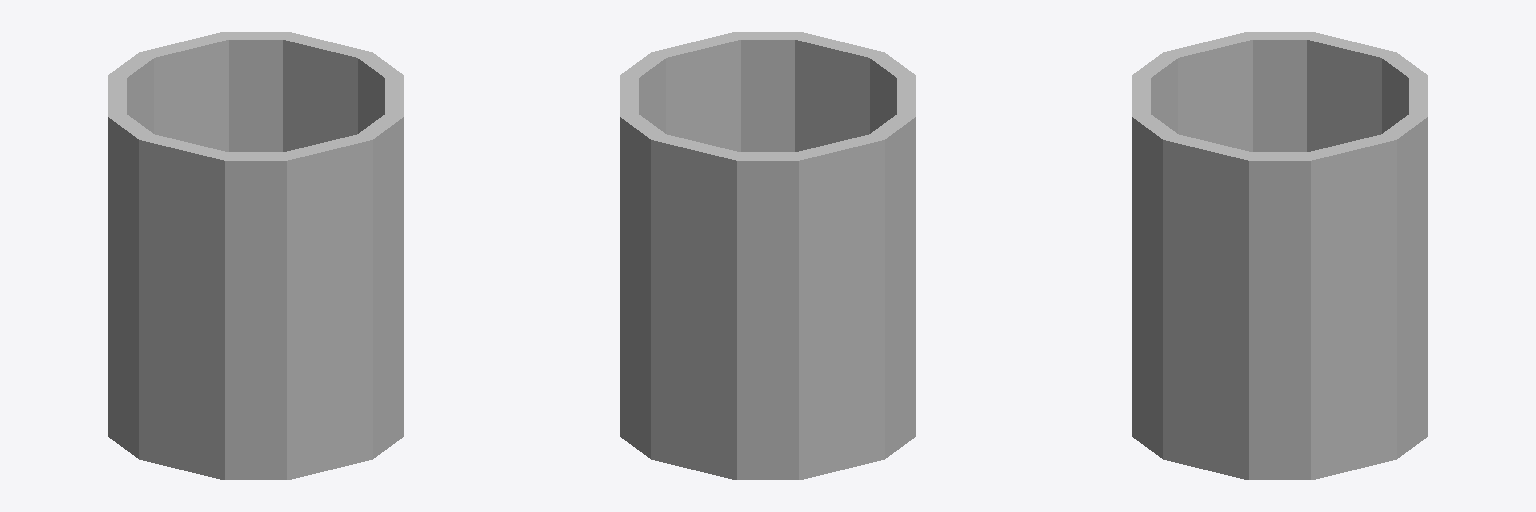
Rendered from chip_wall.obj.
3 renders of one model, left to right at view 1: azimuth 30°, elevation 25°; view 2: azimuth 150°, elevation 25°; view 3: azimuth 270°, elevation 25°, orthographic.
Parts seen in each view (by area): view 1: chip.walls; view 2: chip.walls; view 3: chip.walls.
Part boxes in pixels (left/top/right/bottom): chip.walls: left=108, top=32, right=403, bottom=479; chip.walls: left=620, top=32, right=915, bottom=479; chip.walls: left=1132, top=32, right=1427, bottom=479.
Bounding box in the file's own units: 8.66 × 10 × 8.39.